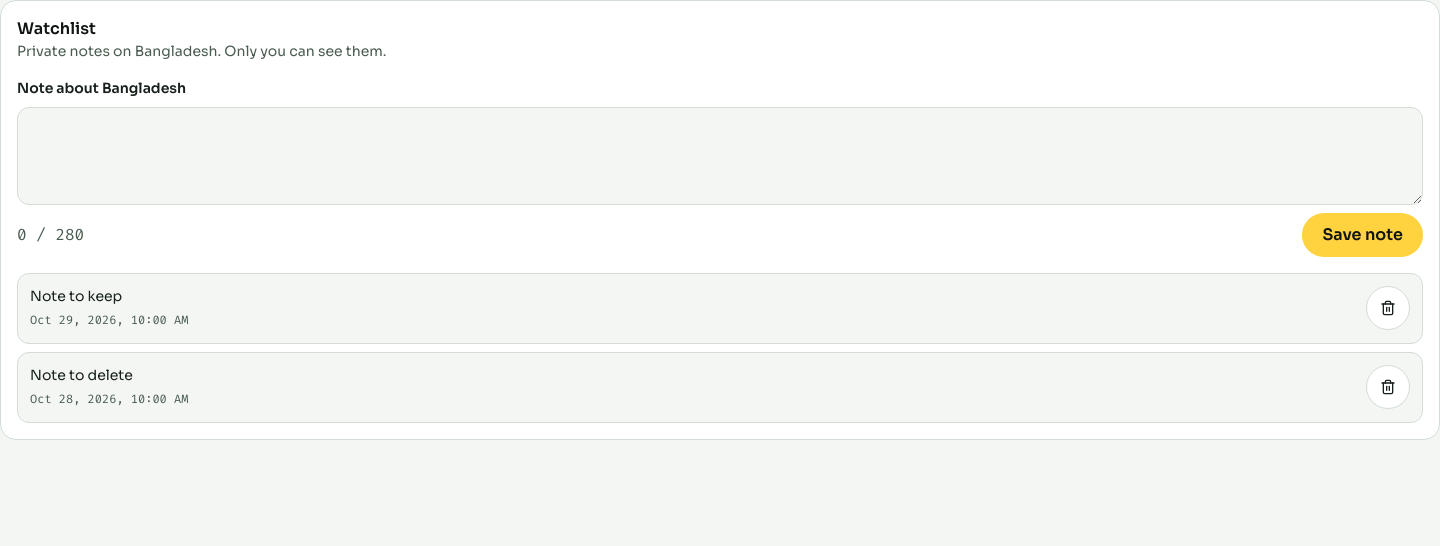
Test: WatchlistCard delete › keeps the note and shows the error when the server rejects the delete
The image size is (1440, 546).
Expected: the text "Note to delete" is shown, left=30, top=366, right=133, bottom=384
Click the button named "Delete note from " at (1388, 387), box left=1366, top=365, right=1410, bottom=409
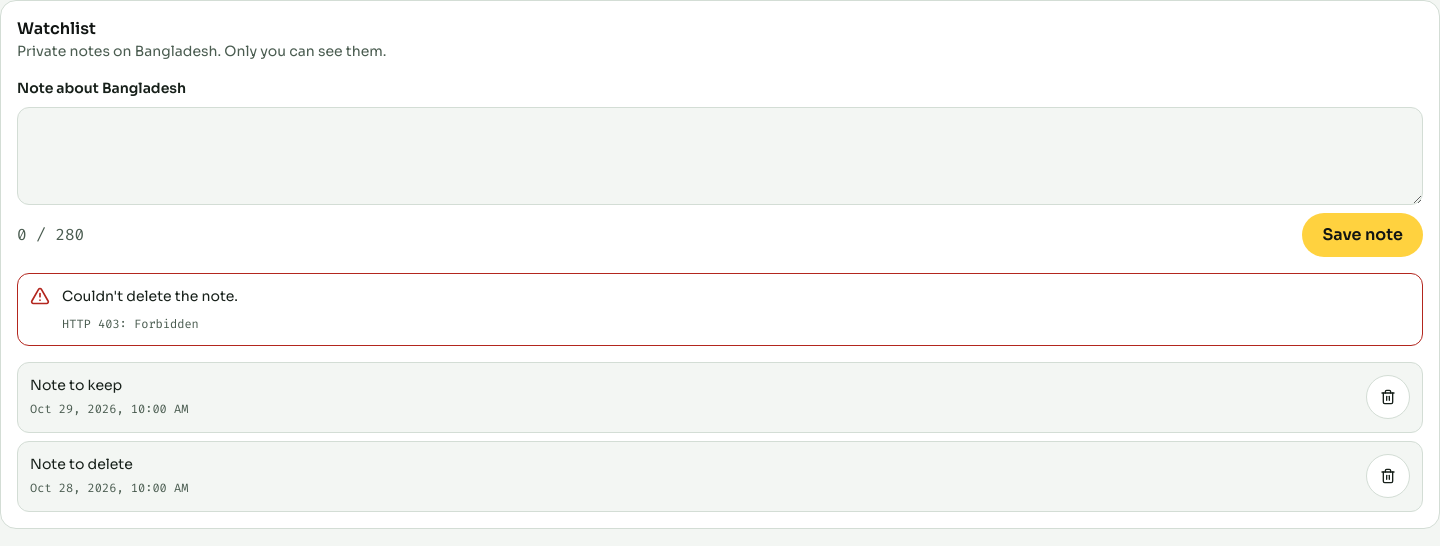
Expected: the text "Note to delete" is shown, left=30, top=455, right=133, bottom=473
Now the message shows "HTTP 403: Forbidden", box left=62, top=316, right=199, bottom=332
